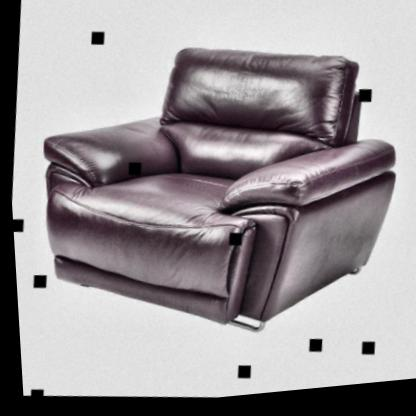Sofa: (16, 20, 416, 369)
